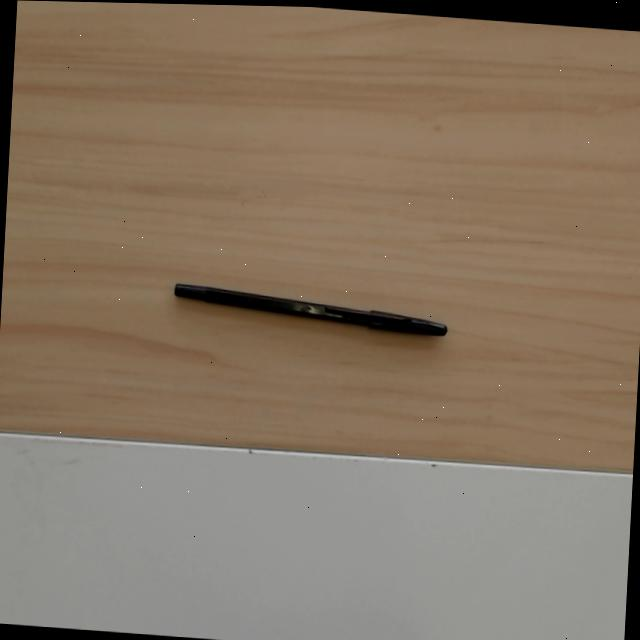Pulpen-Hitam: (171, 281, 447, 338)
